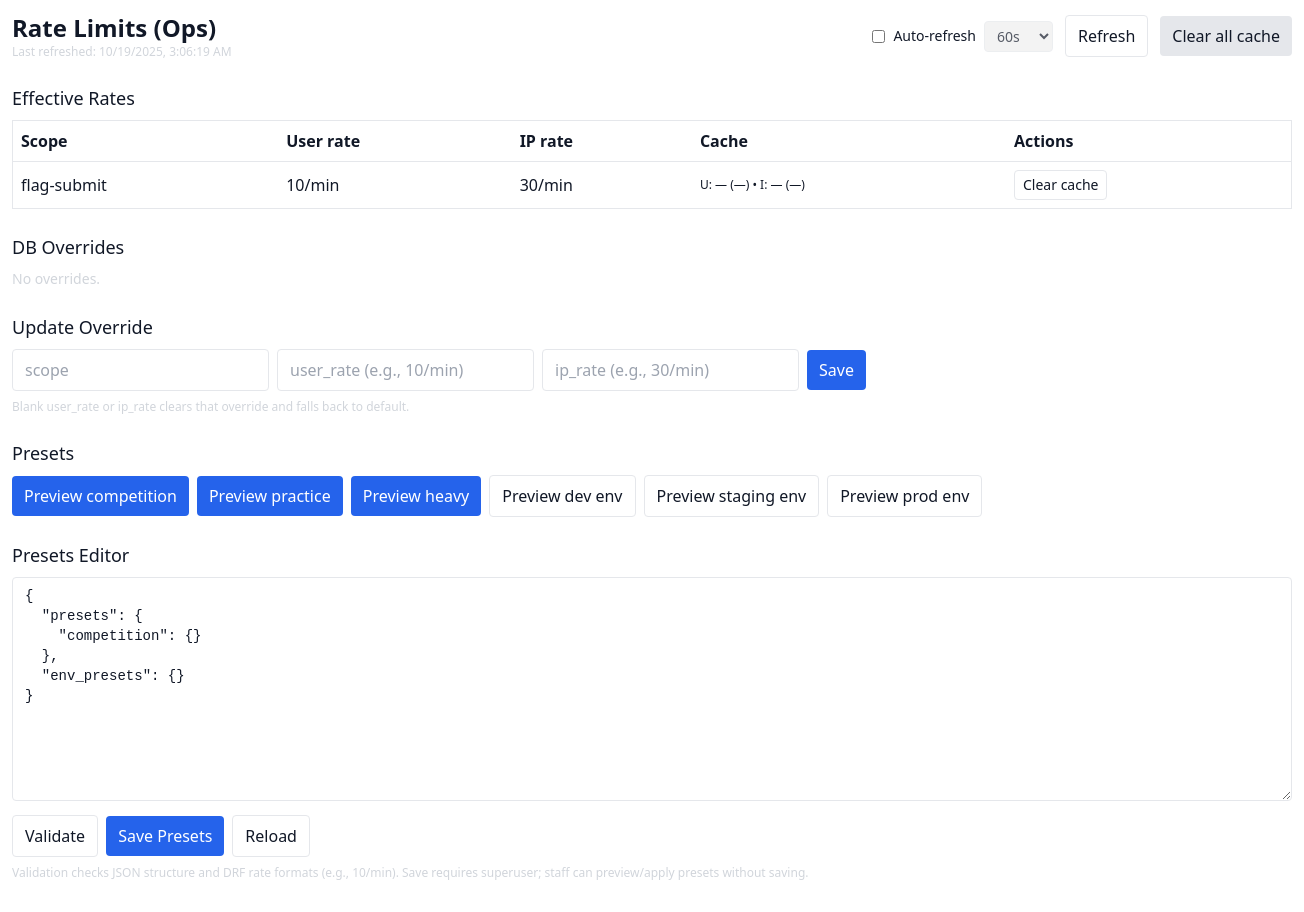
Scenario: Ops Rate Limits failure cases › Save presets failure shows error toast and does not reload data
Expected: the heading "Rate Limits (Ops)" is shown, [12, 12, 232, 44]
Click the button "Save Presets" at (165, 836), box [106, 816, 224, 856]
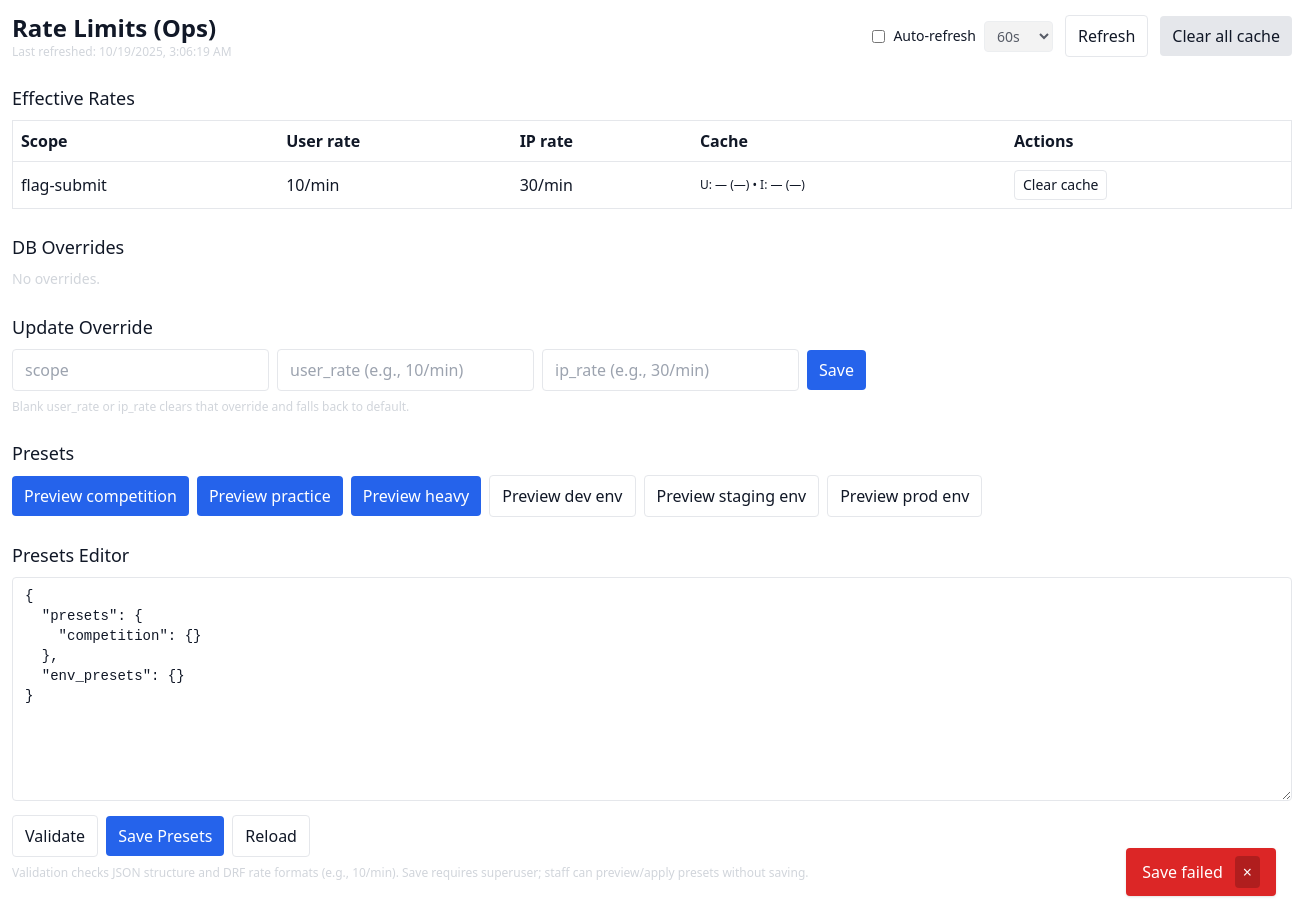
Now the text "Save failed" is shown, box [1142, 860, 1223, 884]
